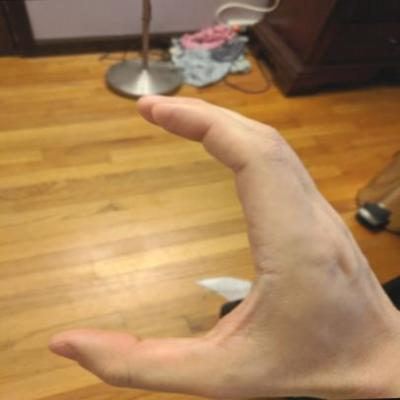hand: (35, 82, 399, 399)
